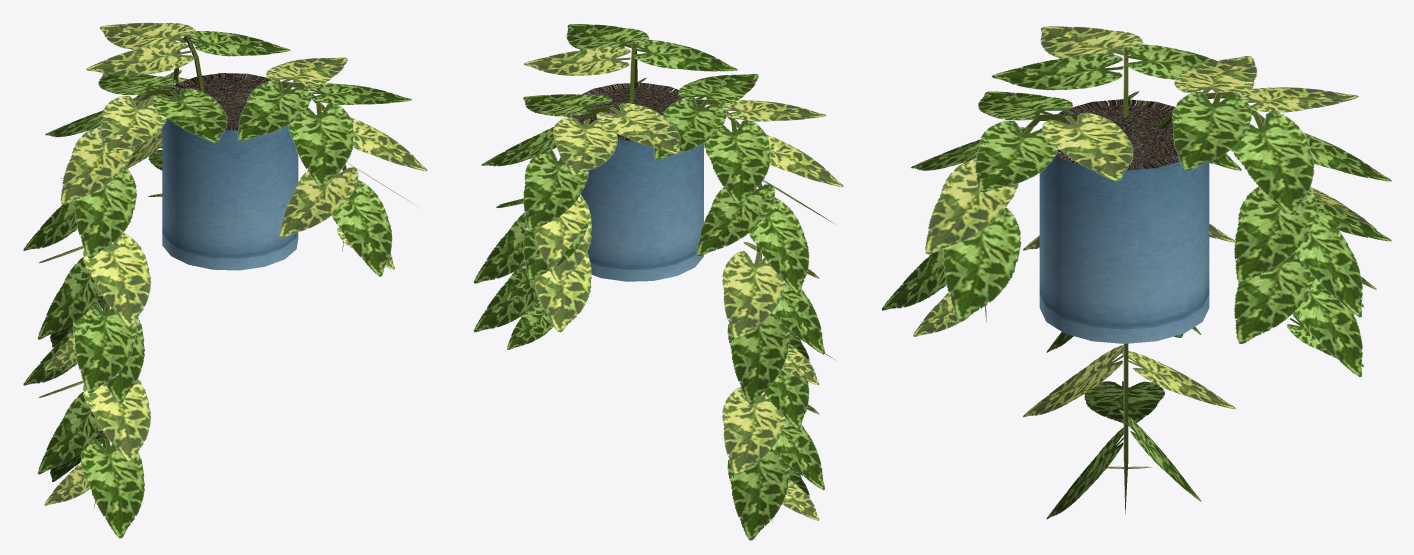
The model's file is FlowerRoom4b.FBX.
3 renders of one model, left to right at view 1: azimuth 30°, elevation 25°; view 2: azimuth 150°, elevation 25°; view 3: azimuth 270°, elevation 25°, orthographic. The views are drawn at different scales.
Visible parts, largest first — view 1: FlowerRoom4; view 2: FlowerRoom4; view 3: FlowerRoom4.
Boxes of the visible parts, left/top/right/bottom form: FlowerRoom4: left=23, top=22, right=427, bottom=538; FlowerRoom4: left=473, top=24, right=843, bottom=540; FlowerRoom4: left=881, top=26, right=1391, bottom=519.
Bounding box in the file's own units: 30.91 × 36.77 × 33.69.
